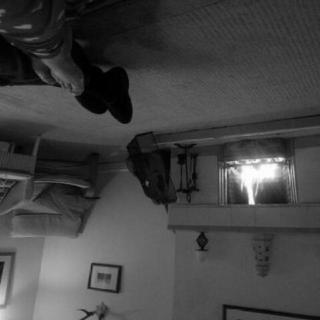Fire: (197, 151, 306, 211)
